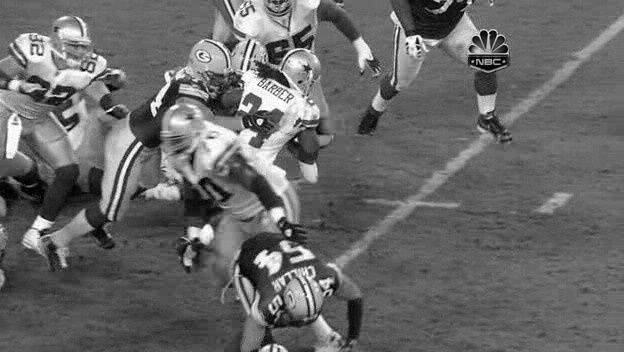person: (286, 49, 321, 94), (285, 49, 320, 94), (287, 49, 322, 94), (286, 48, 321, 93), (286, 50, 321, 95)
target_negative: (437, 32, 520, 329), (201, 132, 224, 328), (316, 164, 406, 193), (448, 335, 510, 342), (573, 256, 602, 268)
